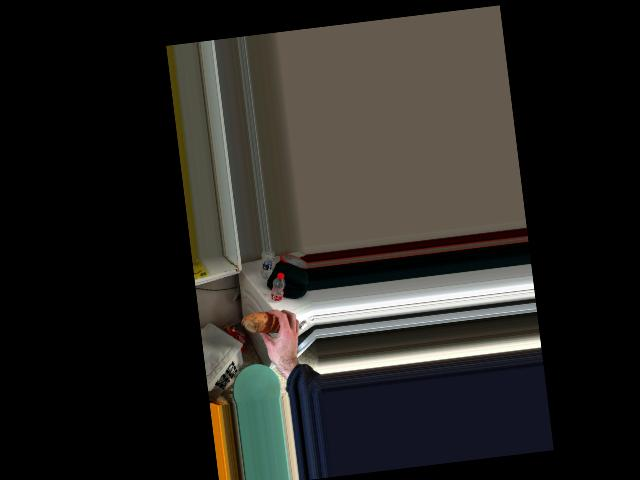sweet_potato: (252, 312, 291, 346)
